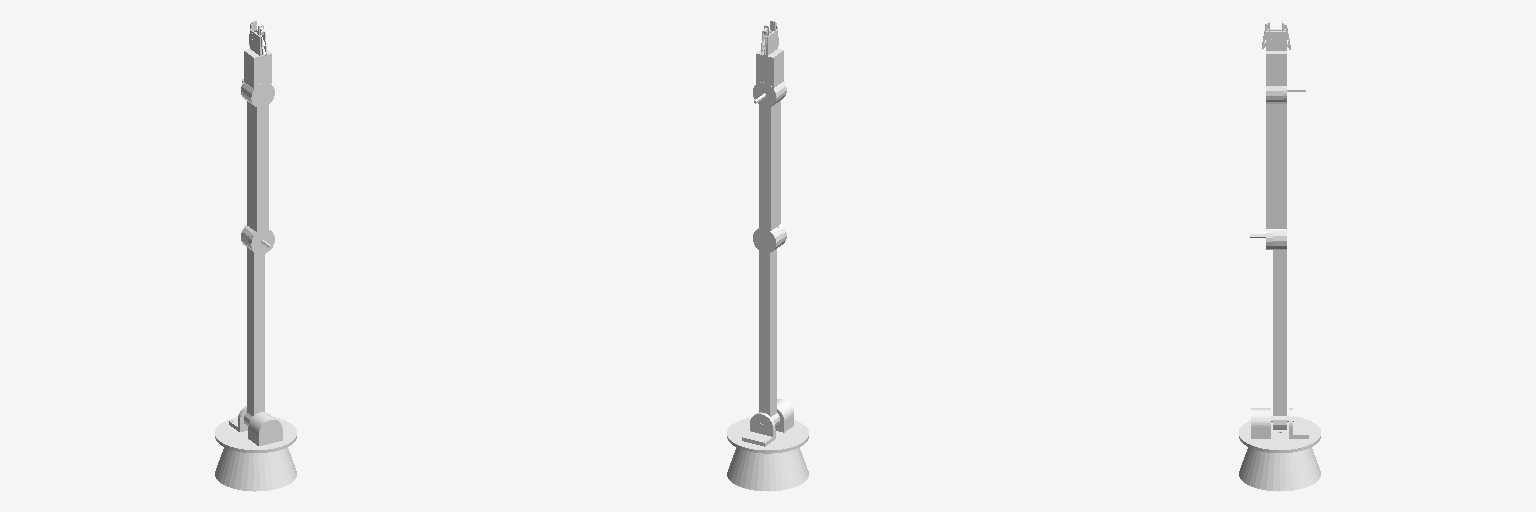
robot.urdf — zeus_arm:
<?xml version="1.0" encoding="utf-8"?>
<!-- This URDF was automatically created by SolidWorks to URDF Exporter! Originally created by [author] ([email redacted]) 
     Commit Version: 1.5.1-0-g916b5db  Build Version: 1.5.7152.31018
     For more information, please see http://wiki.ros.org/sw_urdf_exporter -->
<robot
  name="zeus_arm">
  <link name="world"/>
   <joint name="fixed" type="fixed">
    <parent link="world"/>
    <child link="base_link"/>
   </joint>
  <link
    name="base_link">
    <inertial>
      <origin
        xyz="3.0908E-17 -3.2417E-17 0.062542"
        rpy="0 0 0" />
      <mass
        value="14.092" />
      <inertia
        ixx="0.085766"
        ixy="-4.3152E-32"
        ixz="2.8917E-17"
        iyy="0.085766"
        iyz="-2.1976E-17"
        izz="0.12286" />
    </inertial>
    <visual>
      <origin
        xyz="0 0 0"
        rpy="0 0 0" />
      <geometry>
        <mesh
          filename="package://zeus_arm/meshes/base_link_mat.STL" />
      </geometry>
      <material
        name="">
        <color
          rgba="1 1 1 1" />
      </material>
    </visual>
    <collision>
      <origin
        xyz="0 0 0"
        rpy="0 0 0" />
      <geometry>
        <mesh
          filename="package://zeus_arm/meshes/base_link_mat.STL" />
      </geometry>
    </collision>
  </link>
  <link
    name="base_plate">
    <inertial>
      <origin
        xyz="8.8979E-13 -0.013021 0.023608"
        rpy="0 0 0" />
      <mass
        value="2.982" />
      <inertia
        ixx="0.011454"
        ixy="-3.8197E-18"
        ixz="8.0334E-18"
        iyy="0.011983"
        iyz="0.00020792"
        izz="0.021582" />
    </inertial>
    <visual>
      <origin
        xyz="0 0 0"
        rpy="0 0 0" />
      <geometry>
        <mesh
          filename="package://zeus_arm/meshes/base_plate_mat.STL" />
      </geometry>
      <material
        name="">
        <color
          rgba="1 1 1 1" />
      </material>
    </visual>
    <collision>
      <origin
        xyz="0 0 0"
        rpy="0 0 0" />
      <geometry>
        <mesh
          filename="package://zeus_arm/meshes/base_plate_mat.STL" />
      </geometry>
    </collision>
  </link>
  <joint
    name="joint_1"
    type="continuous">
    <origin
      xyz="0 0 0.15254"
      rpy="0 0 0" />
    <parent
      link="base_link" />
    <child
      link="base_plate" />
    <axis
      xyz="0 0 1" />
    <limit
      effort="1000"
      velocity="2" />
  </joint>
  <link
    name="arm">
    <inertial>
      <origin
        xyz="8.0251E-14 0.3644 0.0039084"
        rpy="0 0 0" />
      <mass
        value="4.9582" />
      <inertia
        ixx="0.23974"
        ixy="1.3593E-16"
        ixz="-3.1522E-18"
        iyy="0.0026853"
        iyz="0.00079051"
        izz="0.24002" />
    </inertial>
    <visual>
      <origin
        xyz="0 0 0"
        rpy="0 0 0" />
      <geometry>
        <mesh
          filename="package://zeus_arm/meshes/arm_mat.STL" />
      </geometry>
      <material
        name="">
        <color
          rgba="1 1 1 1" />
      </material>
    </visual>
    <collision>
      <origin
        xyz="0 0 0"
        rpy="0 0 0" />
      <geometry>
        <mesh
          filename="package://zeus_arm/meshes/arm_mat.STL" />
      </geometry>
    </collision>
  </link>
  <joint
    name="joint_2"
    type="revolute">
    <origin
      xyz="0 0 0.06405"
      rpy="1.5708 0 0" />
    <parent
      link="base_plate" />
    <child
      link="arm" />
    <axis
      xyz="0 0 1" />
    <limit
      lower="-2.62"
      upper="2.62"
      effort="1000"
      velocity="2" />
    <dynamics
      damping="1"
      friction="3.0" />
  </joint>
  <link
    name="forearm">
    <inertial>
      <origin
        xyz="0.32992 -7.4353E-15 0.016597"
        rpy="0 0 0" />
      <mass
        value="5.1702" />
      <inertia
        ixx="0.0041396"
        ixy="3.3975E-16"
        ixz="0.00073797"
        iyy="0.16777"
        iyz="-9.622E-18"
        izz="0.16696" />
    </inertial>
    <visual>
      <origin
        xyz="0 0 0"
        rpy="0 0 0" />
      <geometry>
        <mesh
          filename="package://zeus_arm/meshes/forearm_mat.STL" />
      </geometry>
      <material
        name="">
        <color
          rgba="1 1 1 1" />
      </material>
    </visual>
    <collision>
      <origin
        xyz="0 0 0"
        rpy="0 0 0" />
      <geometry>
        <mesh
          filename="package://zeus_arm/meshes/forearm_mat.STL" />
      </geometry>
    </collision>
  </link>
  <joint
    name="joint_3"
    type="revolute">
    <origin
      xyz="0 0.73375 0"
      rpy="0 0 1.5708" />
    <parent
      link="arm" />
    <child
      link="forearm" />
    <axis
      xyz="0 0 1" />
    <limit
      lower="-2.62"
      upper="2.62"
      effort="1000"
      velocity="2" />
    <dynamics
      damping="1"
      friction="3.0" />
  </joint>
  <link
    name="wrist">
    <inertial>
      <origin
        xyz="0.083048 3.5977E-15 0.0090465"
        rpy="0 0 0" />
      <mass
        value="1.3369" />
      <inertia
        ixx="0.0013375"
        ixy="-3.8319E-19"
        ixz="-4.7176E-19"
        iyy="0.0018768"
        iyz="-8.1315E-20"
        izz="0.0020021" />
    </inertial>
    <visual>
      <origin
        xyz="0 0 0"
        rpy="0 0 0" />
      <geometry>
        <mesh
          filename="package://zeus_arm/meshes/wrist_mat.STL" />
      </geometry>
      <material
        name="">
        <color
          rgba="1 1 1 1" />
      </material>
    </visual>
    <collision>
      <origin
        xyz="0 0 0"
        rpy="0 0 0" />
      <geometry>
        <mesh
          filename="package://zeus_arm/meshes/wrist_mat.STL" />
      </geometry>
    </collision>
  </link>
  <joint
    name="joint_4"
    type="revolute">
    <origin
      xyz="0.5866 0 0"
      rpy="0 0 0" />
    <parent
      link="forearm" />
    <child
      link="wrist" />
    <axis
      xyz="0 0 1" />
    <limit
      lower="-2.62"
      upper="2.62"
      effort="1000"
      velocity="2" />
    <dynamics
      damping="1"
      friction="3.0" />
  </joint>
  <link
    name="gripper">
    <inertial>
      <origin
        xyz="1.2329E-06 9.5594E-06 0.010831"
        rpy="0 0 0" />
      <mass
        value="0.31021" />
      <inertia
        ixx="0.00016101"
        ixy="-1.6365E-09"
        ixz="-2.062E-09"
        iyy="0.00011567"
        iyz="3.2194E-09"
        izz="0.00011129" />
    </inertial>
    <visual>
      <origin
        xyz="0 0 0"
        rpy="0 0 0" />
      <geometry>
        <mesh
          filename="package://zeus_arm/meshes/gripper_mat.STL" />
      </geometry>
      <material
        name="">
        <color
          rgba="1 1 1 1" />
      </material>
    </visual>
    <collision>
      <origin
        xyz="0 0 0"
        rpy="0 0 0" />
      <geometry>
        <mesh
          filename="package://zeus_arm/meshes/gripper_mat.STL" />
      </geometry>
    </collision>
  </link>
  <joint
    name="joint_5"
    type="continuous">
    <origin
      xyz="0.15927 0 0.0137"
      rpy="-1.5708 0 -1.5708" />
    <parent
      link="wrist" />
    <child
      link="gripper" />
    <axis
      xyz="0 0 -1" />
    <limit
      lower="0"
      upper="0"
      effort="100"
      velocity="2" />
  </joint>

  <gazebo>
    <plugin name="gazebo_ros_control" filename="libgazebo_ros_control.so">
	<robotNameSpace>/zeus_arm</robotNameSpace>
    </plugin>
  </gazebo>


 <transmission name="tran1">
    <type>transmission_interface/SimpleTransmission</type>
    <joint name="joint_1">
      <hardwareInterface>hardware_interface/EffortJointInterface</hardwareInterface>
    </joint>
    <actuator name="motor1">
      <hardwareInterface>hardware_interface/EffortJointInterface</hardwareInterface>
      <mechanicalReduction>1</mechanicalReduction>
    </actuator>
  </transmission>

  <transmission name="tran2">
    <type>transmission_interface/SimpleTransmission</type>
    <joint name="joint_2">
      <hardwareInterface>hardware_interface/EffortJointInterface</hardwareInterface>
    </joint>
    <actuator name="motor2">
      <hardwareInterface>hardware_interface/EffortJointInterface</hardwareInterface>
      <mechanicalReduction>1</mechanicalReduction>
    </actuator>
  </transmission>

  <transmission name="tran3">
    <type>transmission_interface/SimpleTransmission</type>
    <joint name="joint_3">
      <hardwareInterface>hardware_interface/EffortJointInterface</hardwareInterface>
    </joint>
    <actuator name="motor3">
      <hardwareInterface>hardware_interface/EffortJointInterface</hardwareInterface>
      <mechanicalReduction>1</mechanicalReduction>
    </actuator>
  </transmission>

  <transmission name="tran4">
    <type>transmission_interface/SimpleTransmission</type>
    <joint name="joint_4">
      <hardwareInterface>hardware_interface/EffortJointInterface</hardwareInterface>
    </joint>
    <actuator name="motor4">
      <hardwareInterface>hardware_interface/EffortJointInterface</hardwareInterface>
      <mechanicalReduction>1</mechanicalReduction>
    </actuator>
  </transmission>

  <transmission name="tran5">
    <type>transmission_interface/SimpleTransmission</type>
    <joint name="joint_5">
      <hardwareInterface>hardware_interface/EffortJointInterface</hardwareInterface>
    </joint>
    <actuator name="motor5">
      <hardwareInterface>hardware_interface/EffortJointInterface</hardwareInterface>
      <mechanicalReduction>1</mechanicalReduction>
    </actuator>
  </transmission>
</robot>

--- What the picture shows (computed from the rendered views, not written in the file) ---
3 views of the same robot in one strip: view 1: azimuth 30°, elevation 25°; view 2: azimuth 150°, elevation 25°; view 3: azimuth 270°, elevation 25° (orthographic).
Model zeus_arm with 7 links and 6 joints (3 revolute, 2 continuous, 1 fixed), rooted at world, posed all joints at 0.
Links seen in each view (by area): view 1: forearm, arm, base_link, base_plate, wrist; view 2: arm, forearm, base_link, base_plate, wrist; view 3: forearm, arm, base_link, base_plate, wrist, gripper.
Link boxes in pixels (x1,y1,x2,y2): forearm: (242, 79, 274, 254); arm: (241, 225, 272, 426); base_link: (215, 447, 296, 491); base_plate: (215, 406, 296, 452); wrist: (241, 49, 271, 98); arm: (753, 226, 783, 427); forearm: (754, 82, 786, 244); base_link: (727, 447, 808, 491); base_plate: (727, 399, 808, 453); wrist: (753, 49, 783, 107); forearm: (1266, 86, 1305, 249); arm: (1250, 229, 1293, 429); base_link: (1239, 447, 1320, 491); base_plate: (1239, 408, 1320, 452); wrist: (1266, 51, 1286, 103); gripper: (1262, 20, 1290, 52).
Size in the robot's own frame: 0.3 by 0.3 by 1.81 metres.
6 mesh visuals loaded from 6 distinct referenced files (6 binary STL).